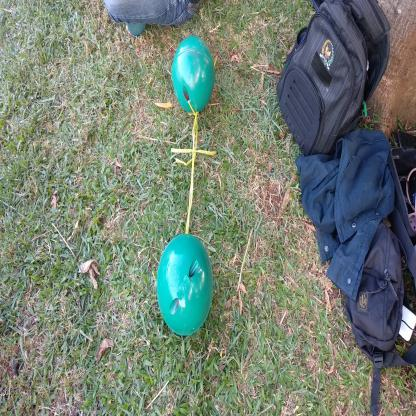green_buoy: (157, 229, 216, 336), (172, 29, 218, 117)
